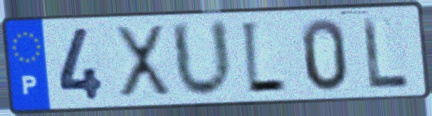0: (299, 15, 351, 95)
4: (56, 25, 111, 104)
L: (359, 15, 412, 93), (238, 18, 289, 98)
U: (167, 17, 237, 102)
X: (112, 23, 175, 101)
